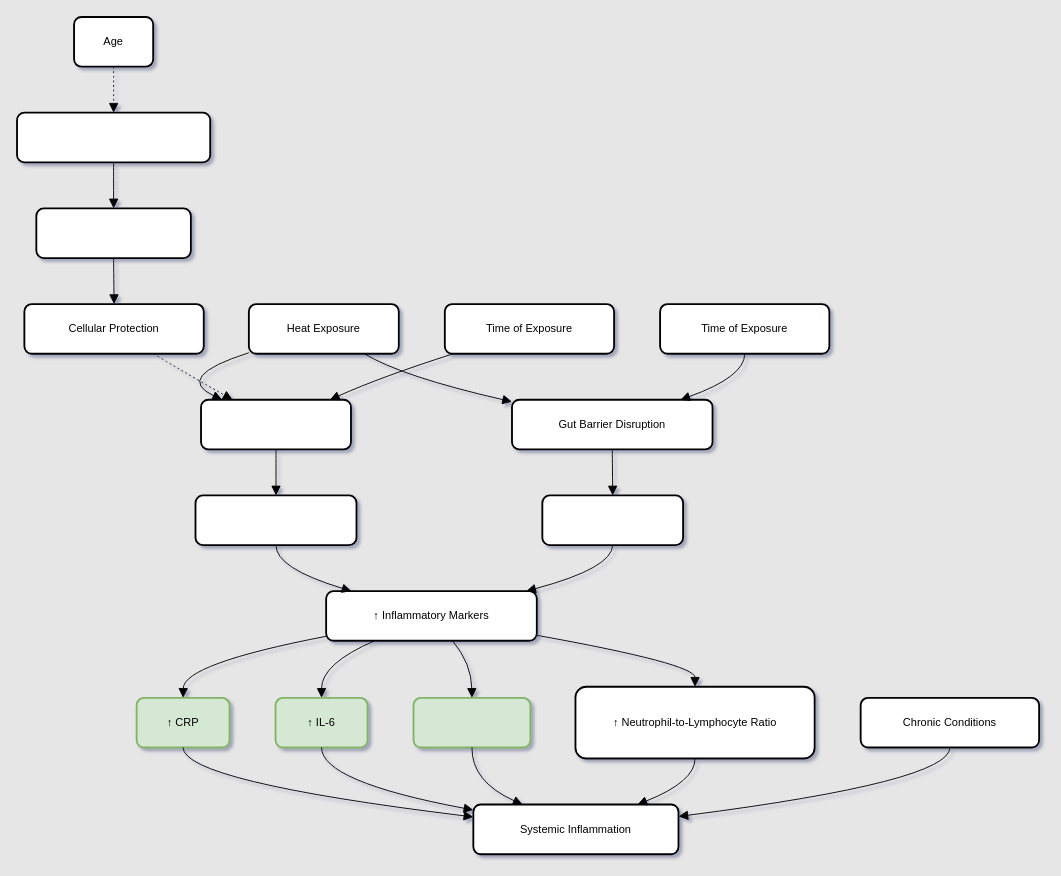
This 1061x876 diagram has some shape labels left out. The shapes that lost their labels are listed below. From the top down, each one's centre as x and y in pixels, then its label:
the point at 113,137: Heat Shock Response
the point at 113,233: HSP Production
the point at 275,424: Cellular Stress
the point at 275,520: Oxidative Stress
the point at 612,520: Endotoxemia
the point at 471,722: ↑ Ferritin
